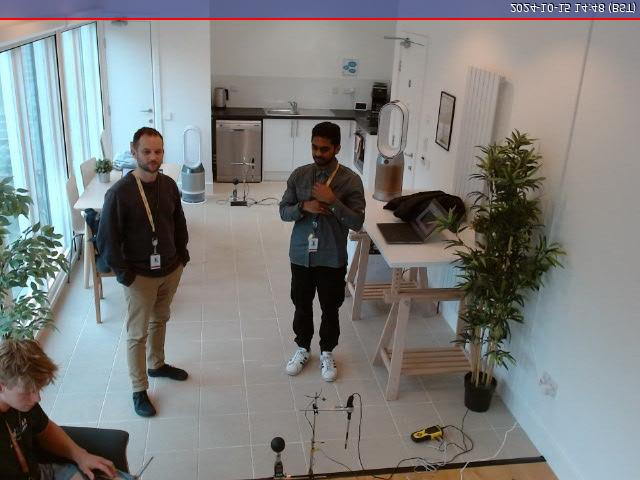long sleeve shirt: (278, 160, 366, 267)
short sleeve shirt: (0, 388, 52, 480)
sweater: (96, 170, 192, 287)
trousers: (122, 261, 184, 397), (288, 264, 348, 353)
